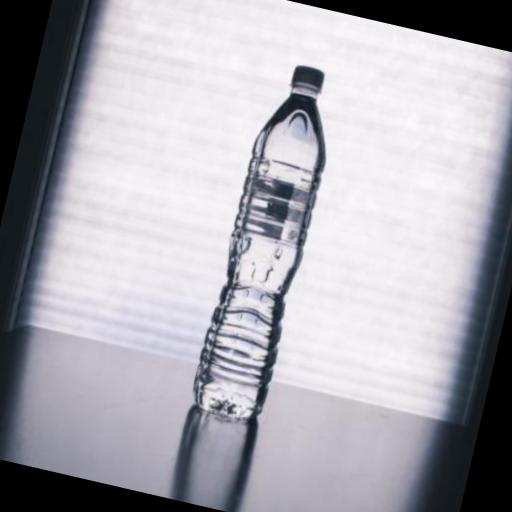Coca: (180, 44, 358, 440)
